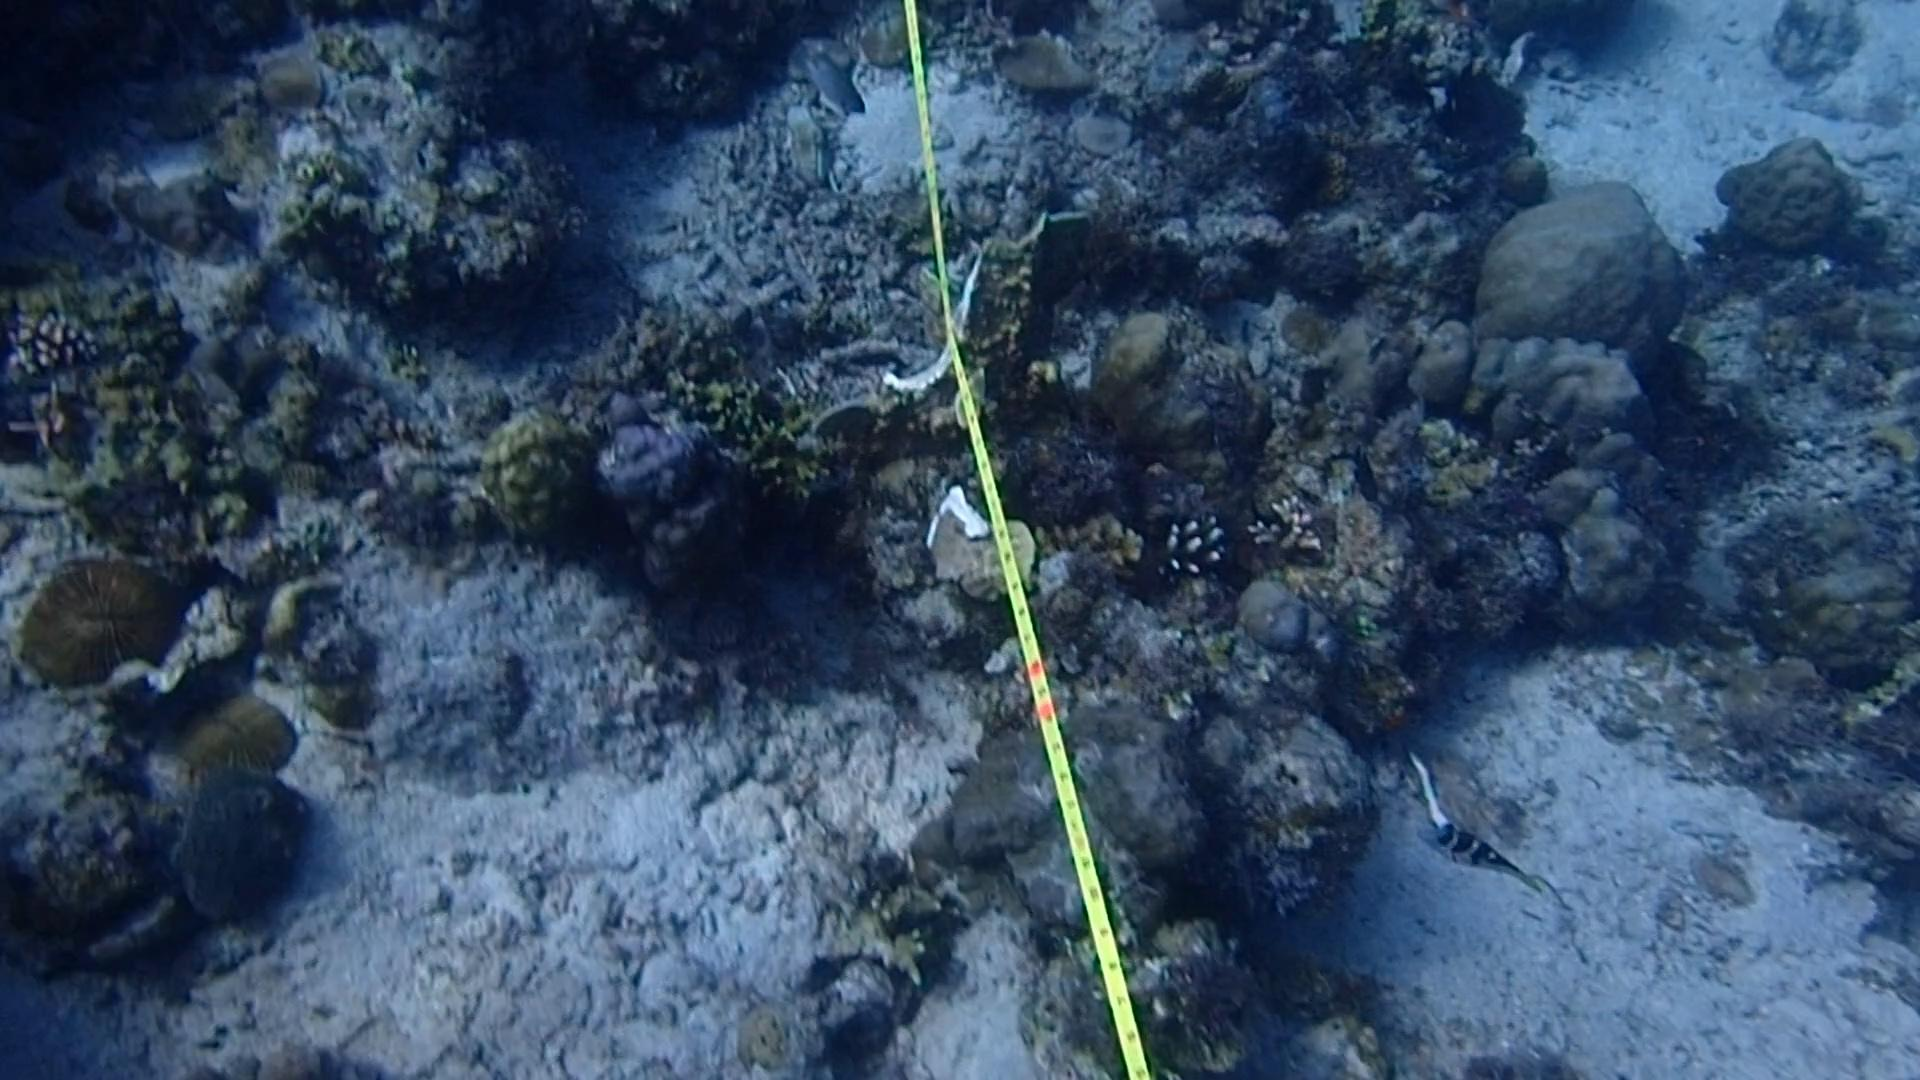Striped Fish: (1412, 811, 1552, 915)
